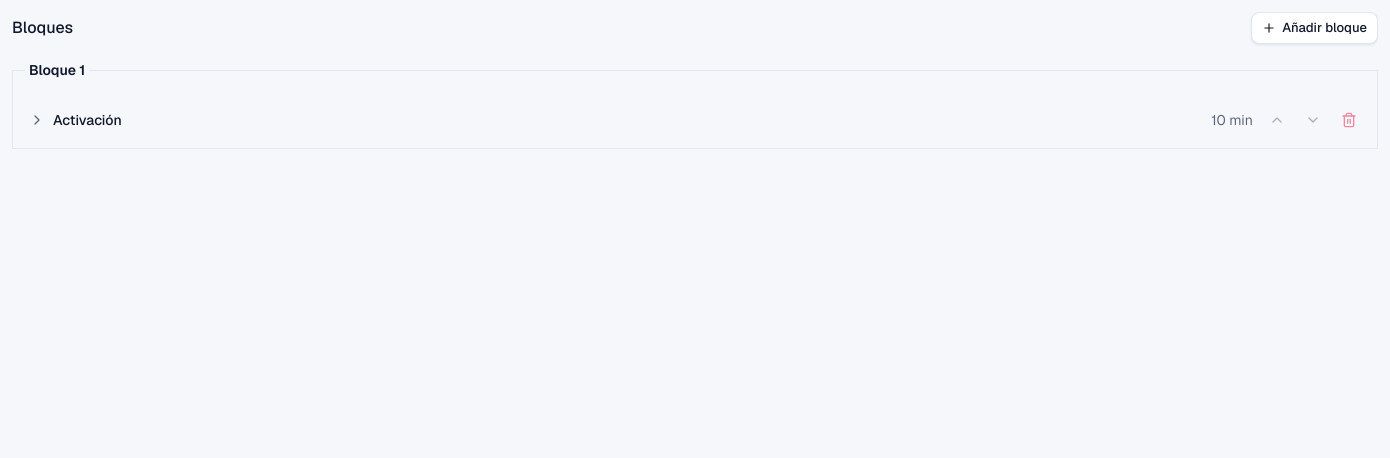
Test: SesionBloquesEditor › permite expandir y contraer un bloque libremente
Step 1. Click the button with aria-label "expandir bloque 1" → (87, 120), box [25, 106, 1257, 134]
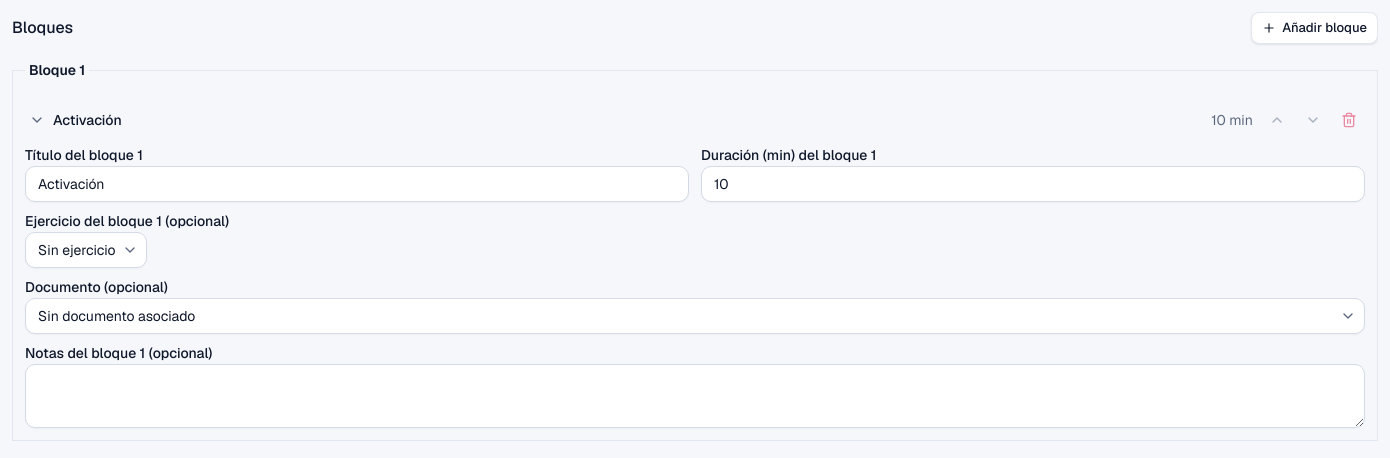
Now the field labelled "Título del bloque 1" holds "Activación", box [25, 166, 689, 202]
Step 2. Click the button with aria-label "contraer bloque 1" → (87, 120), box [25, 106, 1257, 134]
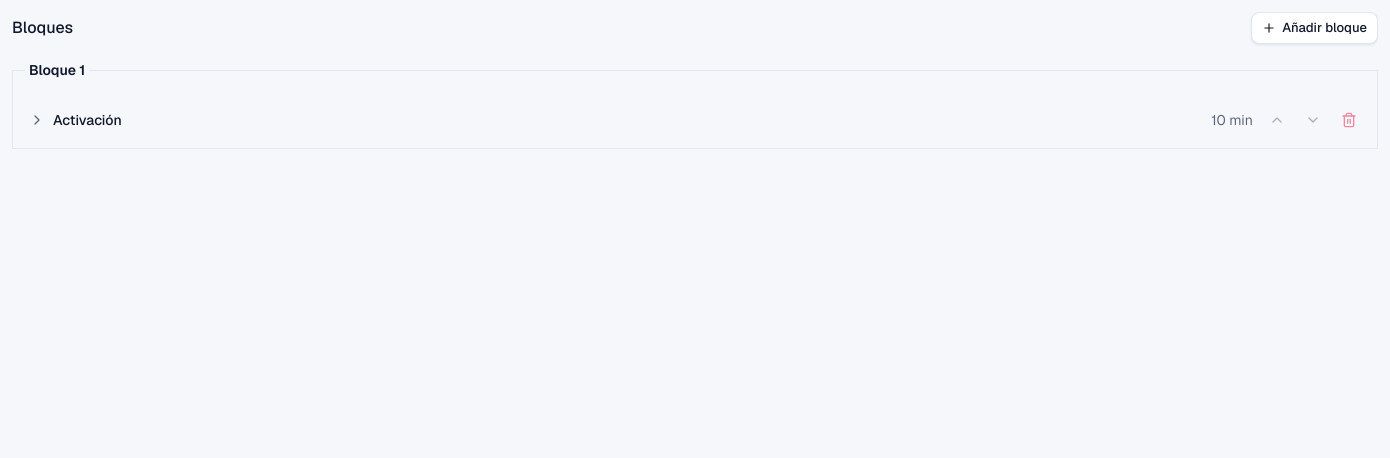
Now the label "Título del bloque 1" is gone
